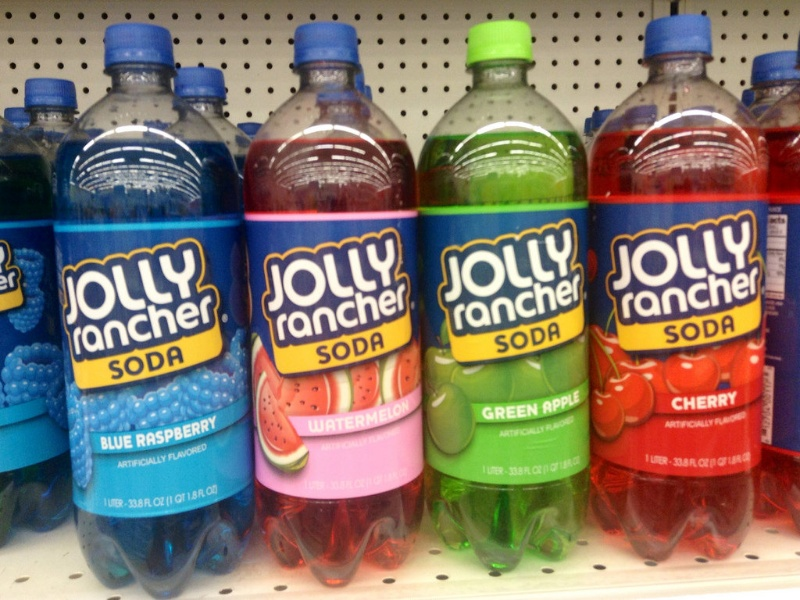Plastic bottle: (18, 12, 276, 583), (214, 6, 438, 573), (566, 20, 779, 569), (404, 27, 611, 585)
